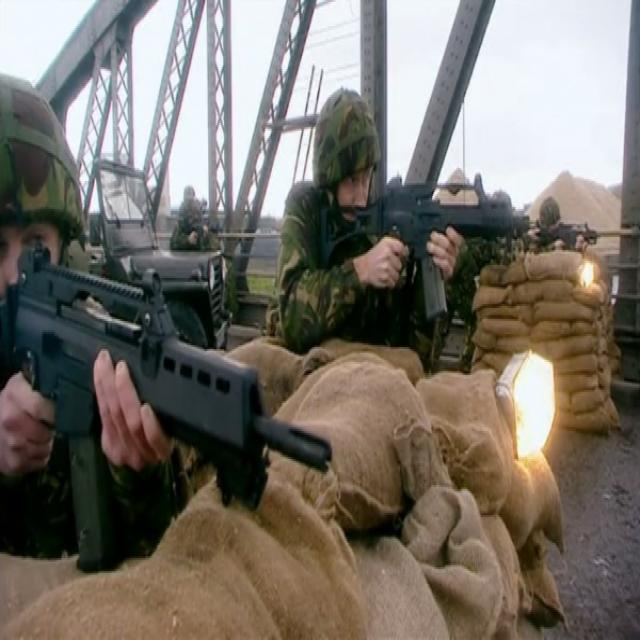rifle: (1, 246, 343, 584), (319, 190, 533, 328)
